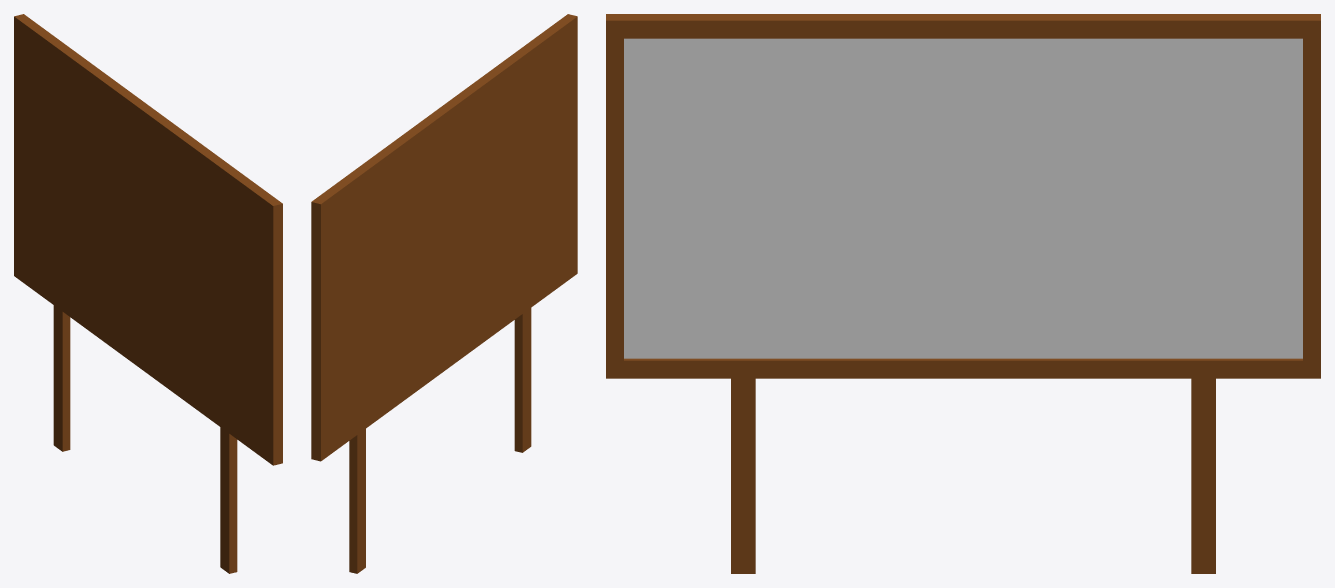
File: groundbanner.dae
The picture shows the model from 3 angles, left to right: view 1: azimuth 30°, elevation 25°; view 2: azimuth 150°, elevation 25°; view 3: azimuth 270°, elevation 25°; orthographic projection. The views are drawn at different scales.
Visible parts, largest first — view 1: Cube_001, Cube_002, Cube_003; view 2: Cube_001, Cube_002, Cube_003; view 3: Cube_001, Cube_002, Cube_003.
Part boxes in pixels (x1,y1,x2,y2): Cube_001: [14, 14, 282, 465]; Cube_002: [220, 427, 237, 573]; Cube_003: [53, 305, 70, 451]; Cube_001: [311, 14, 577, 461]; Cube_002: [514, 308, 531, 452]; Cube_003: [349, 429, 365, 573]; Cube_001: [606, 14, 1320, 378]; Cube_002: [731, 378, 755, 573]; Cube_003: [1191, 378, 1215, 573].
Size of the model in its own units: 0.0611 by 2.8 by 2.39.
